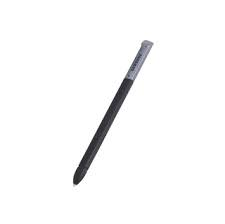qillqana: (63, 37, 156, 191)
